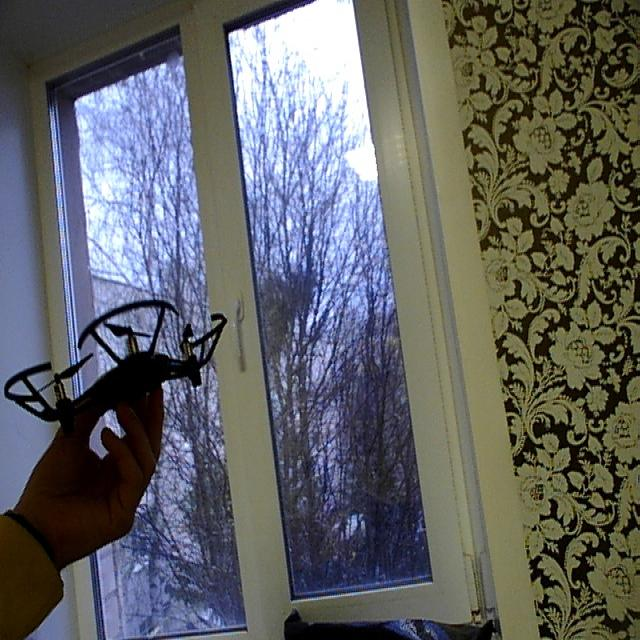drone: (1, 291, 244, 492)
